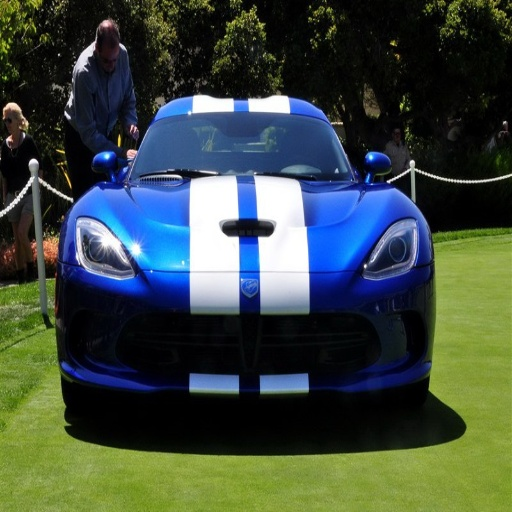front_bumper: (61, 266, 432, 398)
front_right_light: (69, 217, 135, 277)
hood: (90, 176, 409, 270)
